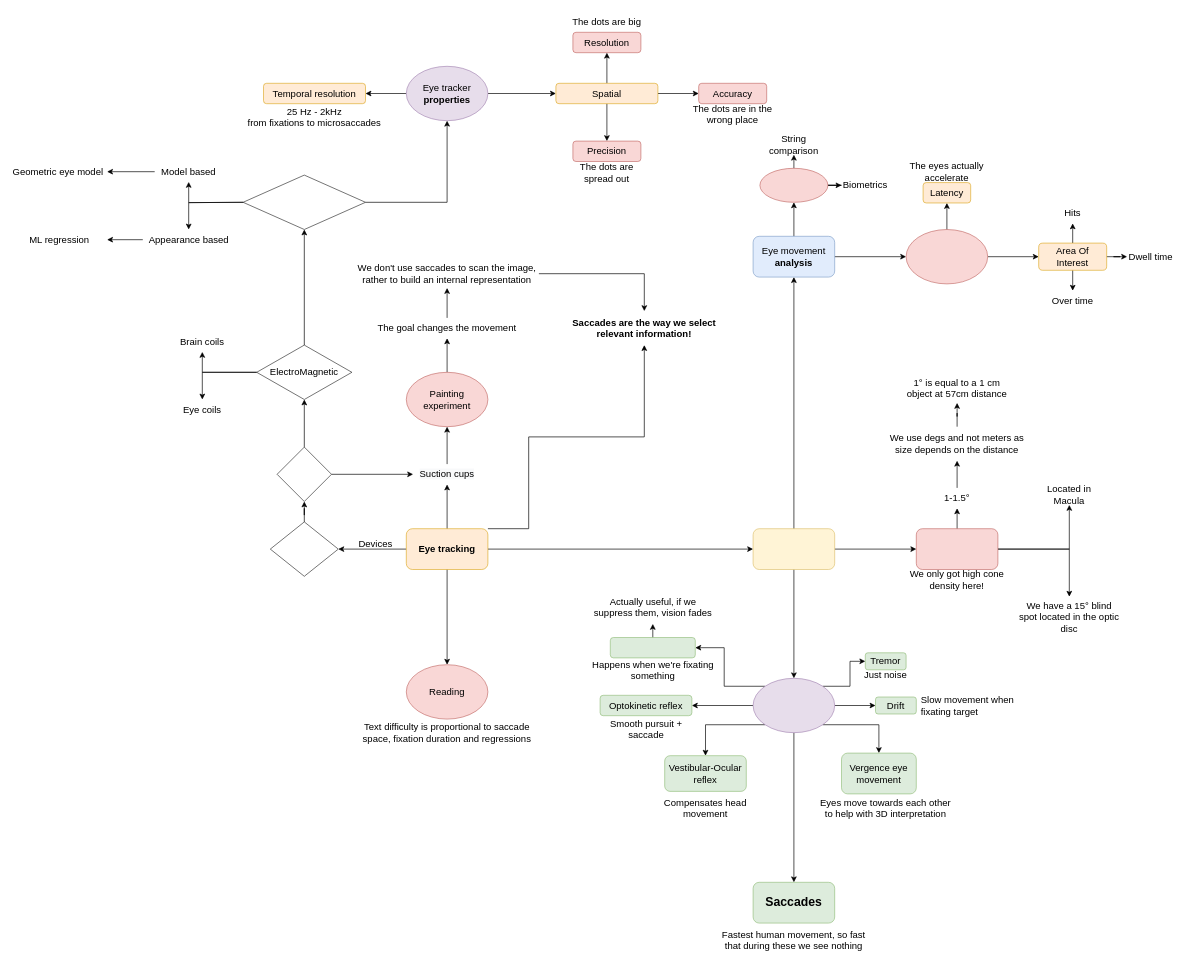
Image size: 1186x968. Some labels were removed from this diagram. Here are the shapes that lost their labels. From the top down, the centre of each, then its label:
[304,202]: Computer based
[793,185]: Scan paths
[946,256]: Performance of visual search
[304,474]: Yarbus, 1967
[304,548]: Huey, 1898
[793,549]: Eye movements
[957,549]: FOVEA
[652,647]: Microsaccades
[793,705]: Types of eye movements
